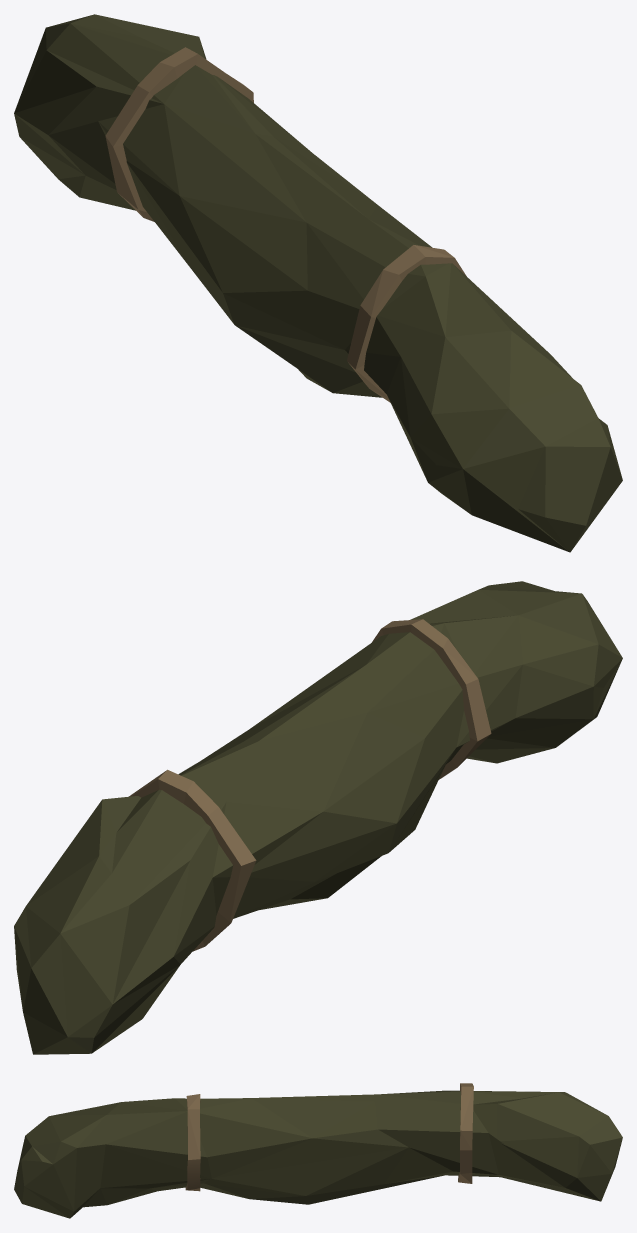
Rendered from SM_Veh_Attach_Cloth_03.fbx.
3 views of the same model, one above another, from view 1: azimuth 30°, elevation 25°; view 2: azimuth 150°, elevation 25°; view 3: azimuth 270°, elevation 25° (orthographic). The views are drawn at different scales.
Visible parts, largest first — view 1: SM_Veh_Attach_Cloth_03; view 2: SM_Veh_Attach_Cloth_03; view 3: SM_Veh_Attach_Cloth_03.
Part boxes in pixels (box(x1,y1,x2,y2)): SM_Veh_Attach_Cloth_03: box(14, 14, 622, 552); SM_Veh_Attach_Cloth_03: box(14, 581, 622, 1054); SM_Veh_Attach_Cloth_03: box(14, 1083, 622, 1218).
Size of the model in its own units: 22.52 by 30.02 by 128.
